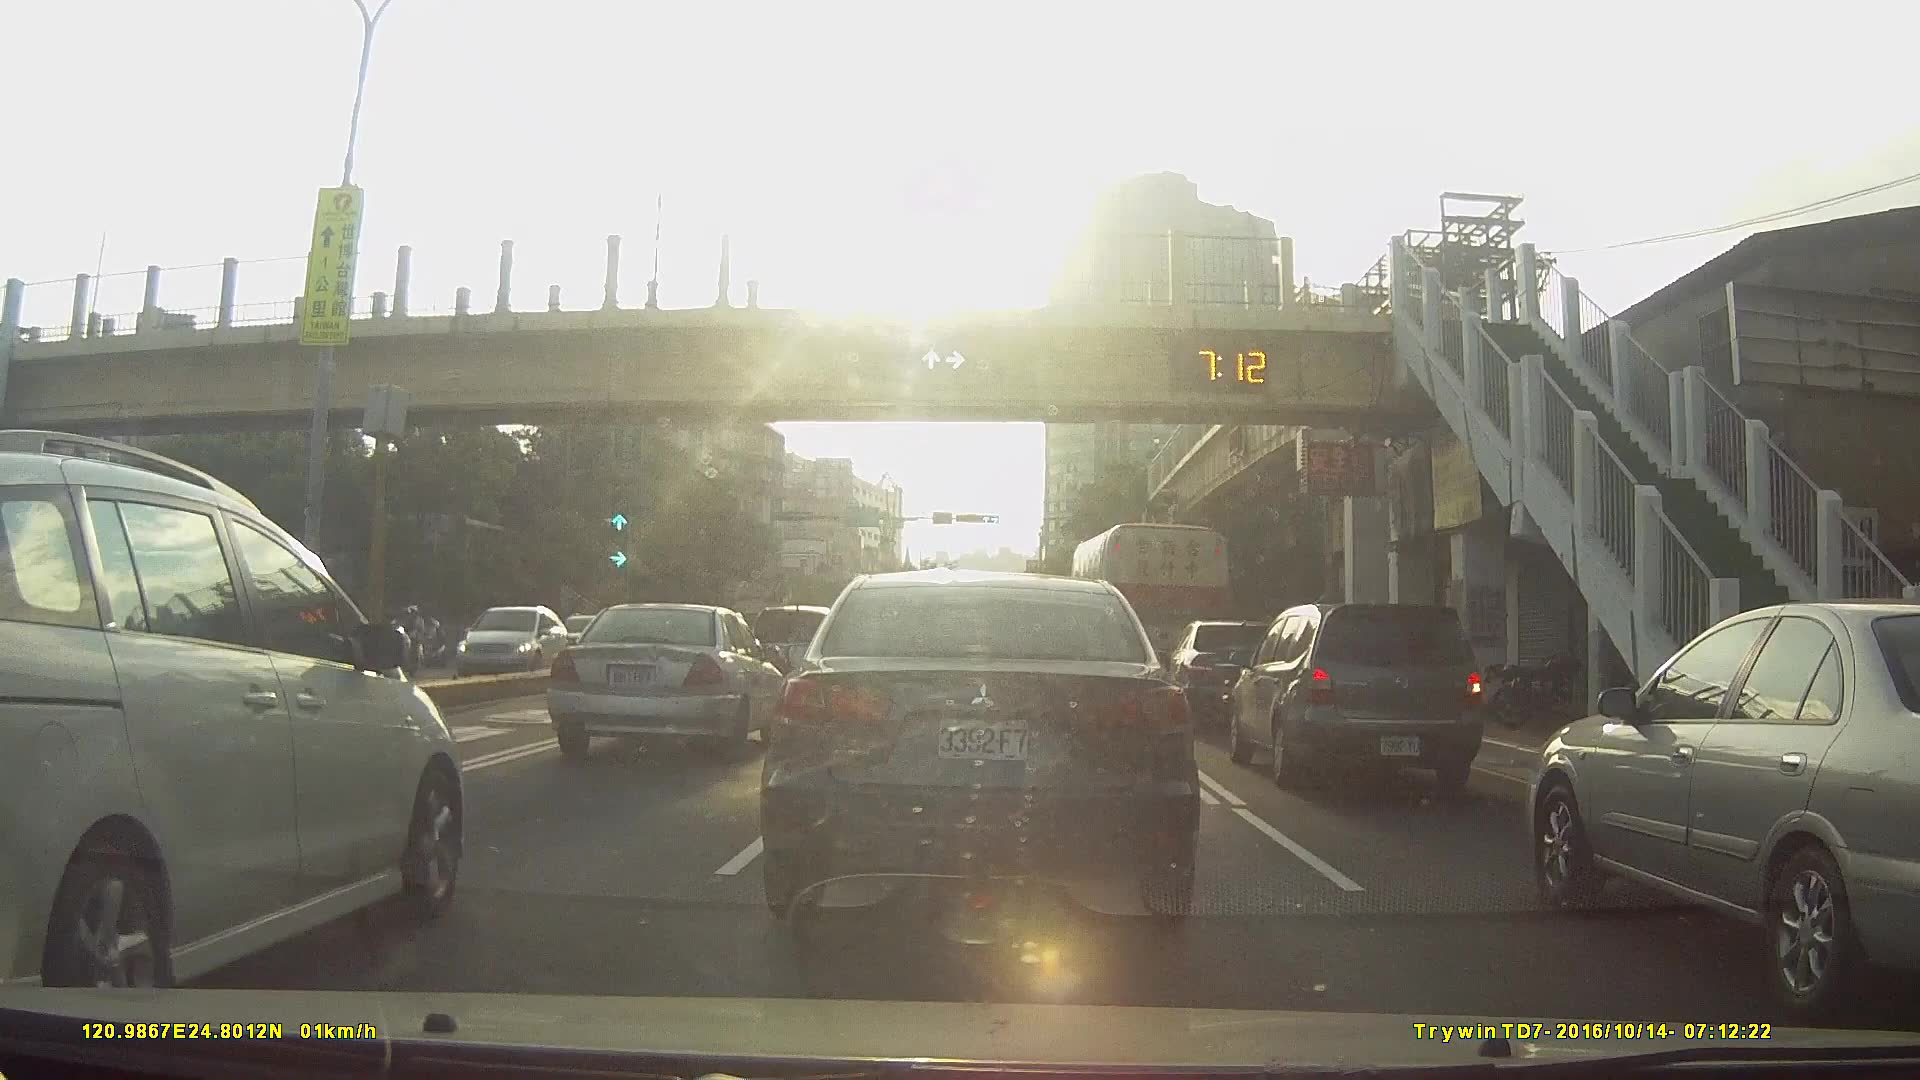rider: (389, 606, 432, 674)
vehicle: (0, 434, 479, 1023), (1530, 595, 1920, 1021), (769, 569, 1200, 936), (1226, 600, 1487, 792), (557, 603, 795, 759), (1165, 621, 1293, 726), (735, 603, 837, 703), (453, 604, 580, 676)
